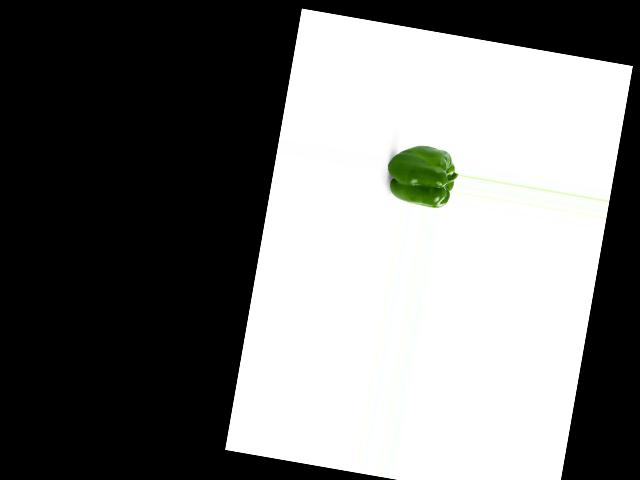bell_pepper: (384, 139, 460, 211)
